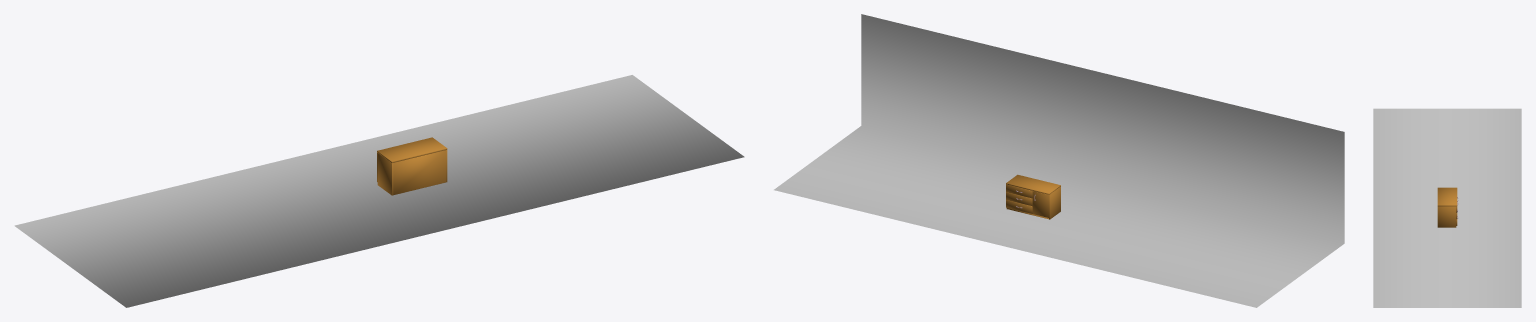
The model's file is chest_of_drawers.gltf.
The picture shows the model from 3 angles, left to right: view 1: azimuth 30°, elevation 25°; view 2: azimuth 150°, elevation 25°; view 3: azimuth 270°, elevation 25°; orthographic projection. The views are drawn at different scales.
Parts seen in each view (by area): view 1: Plane001, Box002; view 2: Plane001, Box002; view 3: Plane001, Box002.
Part boxes in pixels (bbox=[...]): Plane001: bbox=[14, 75, 744, 307]; Box002: bbox=[377, 137, 447, 195]; Plane001: bbox=[774, 14, 1344, 307]; Box002: bbox=[1006, 174, 1060, 219]; Plane001: bbox=[1373, 108, 1521, 307]; Box002: bbox=[1437, 187, 1457, 227].
Bounding box in the file's own units: 729 × 161 × 230.
